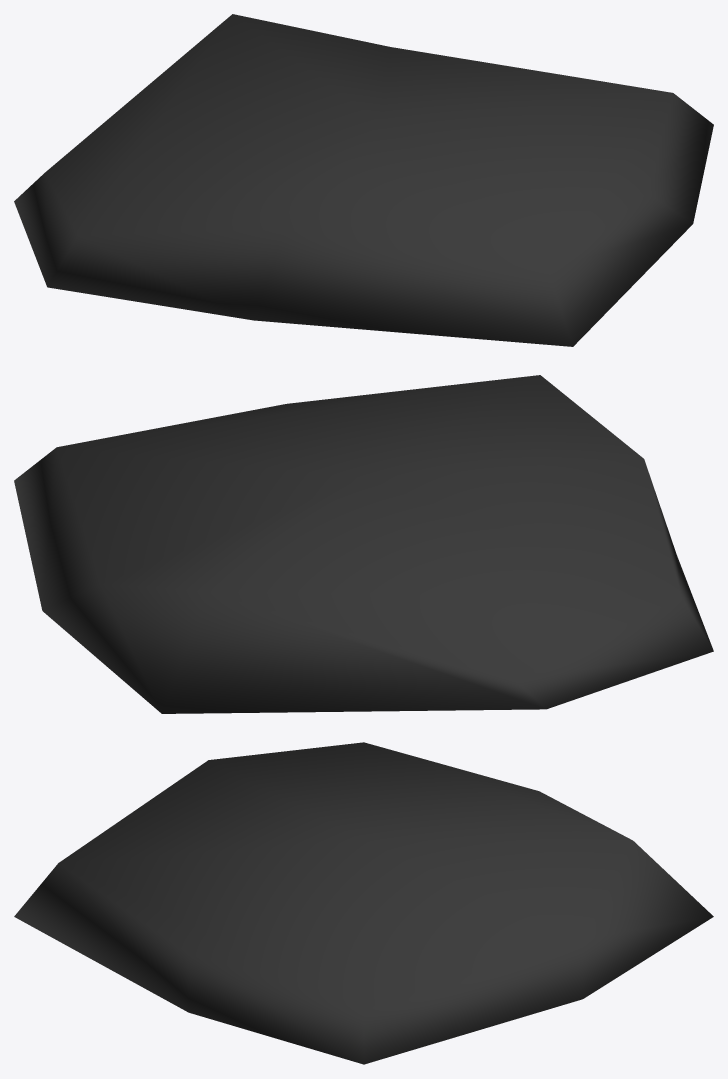
The model's file is OBJ_Rocks_002.fbx.
The picture shows the model from 3 angles, top to bottom: view 1: azimuth 30°, elevation 25°; view 2: azimuth 150°, elevation 25°; view 3: azimuth 270°, elevation 25°; orthographic projection. The views are drawn at different scales.
Parts seen in each view (by area): view 1: Rock_002; view 2: Rock_002; view 3: Rock_002.
Boxes of the visible parts, box(x1,y1,x2,y2) form: Rock_002: box(14, 14, 713, 346); Rock_002: box(14, 375, 713, 713); Rock_002: box(14, 742, 713, 1064).
Bounding box in the file's own units: 1282 × 154 × 1282.
1 material, 1 textured.
